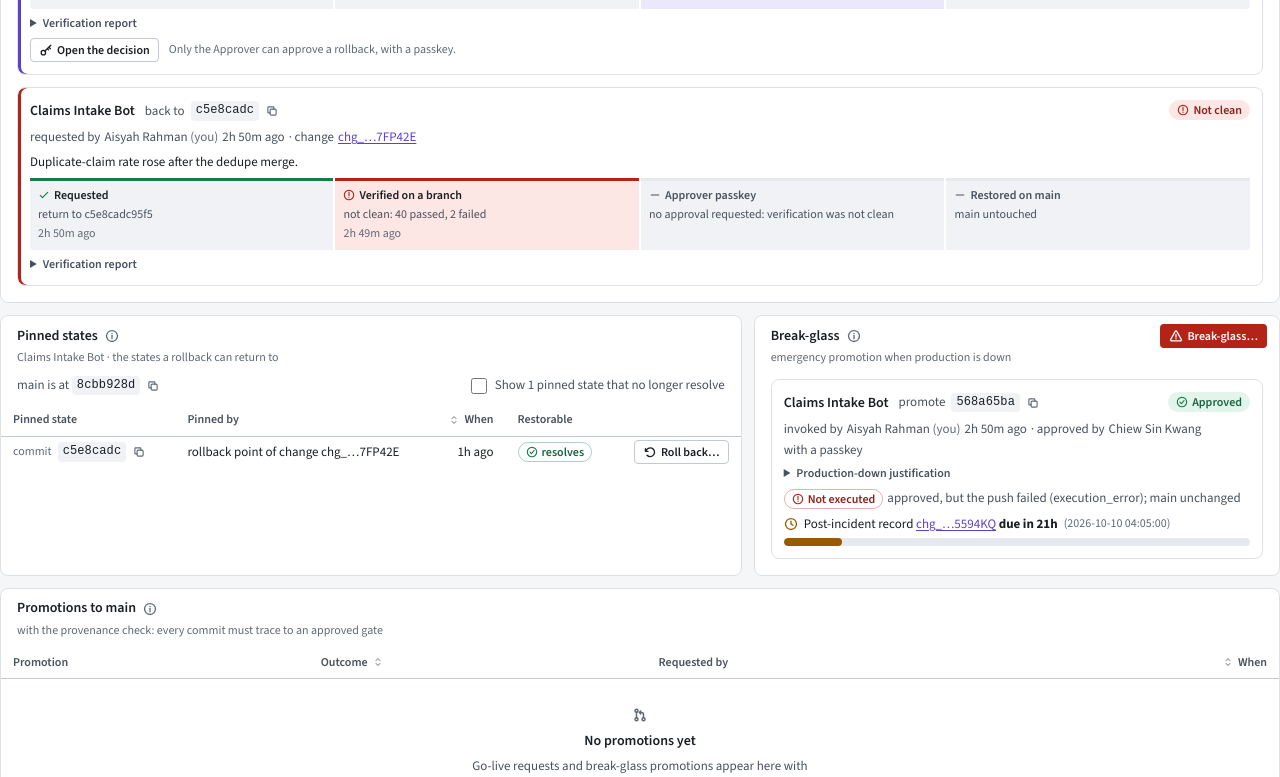
Test: Rollbacks › requests a rollback to a pinned state that still resolves, never to one that does not
Later steps or results of the test are not shown.
(page scrolled)
Expected: the number of buttons "Roll back…" is 1, [634,440,729,464]
Click the checkbox labelled "Show 1 pinned state that no longer resolve".
click(479, 386)  # box [471,378,487,394]
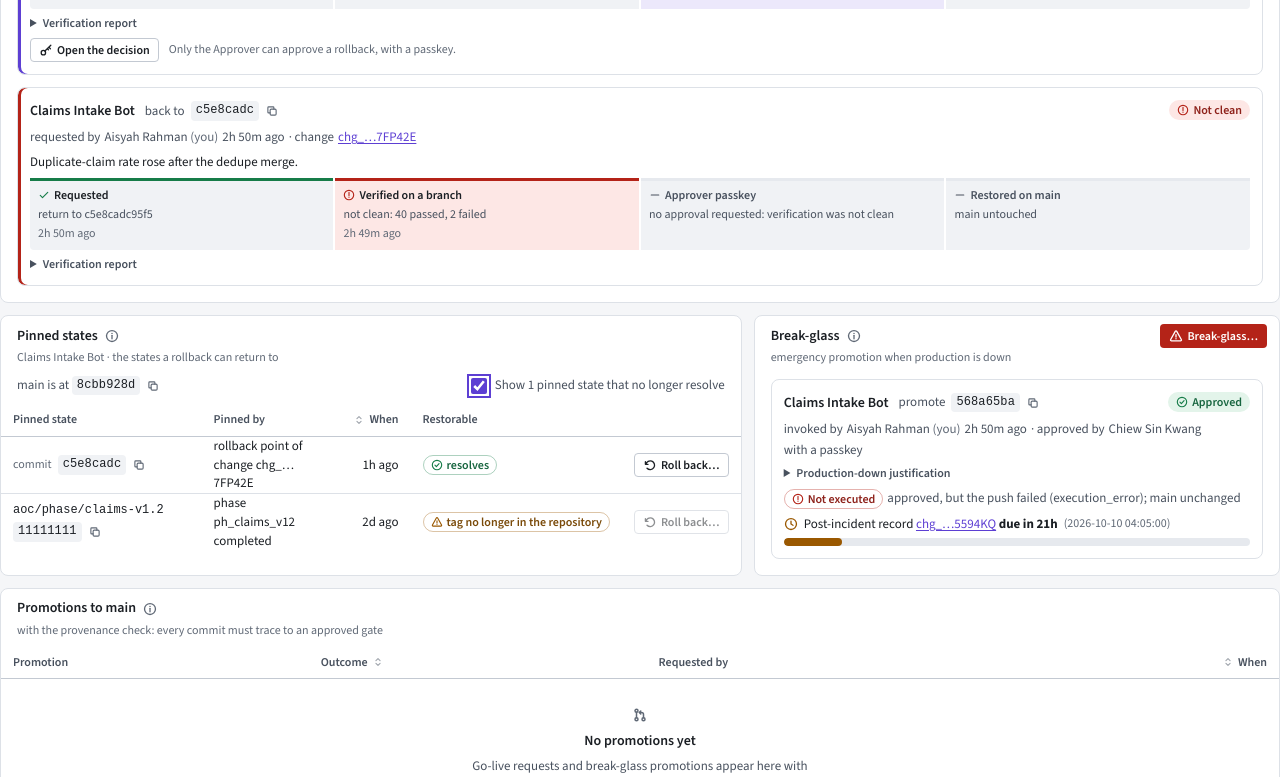
Now the number of buttons "Roll back…" is 2
Now the button "Roll back…" in the row of "aoc/phase/claims-v1.2" is disabled, box [634,510,729,534]
Click the button "Roll back…" next to "resolves".
click(681, 464)  # box [634,452,729,476]
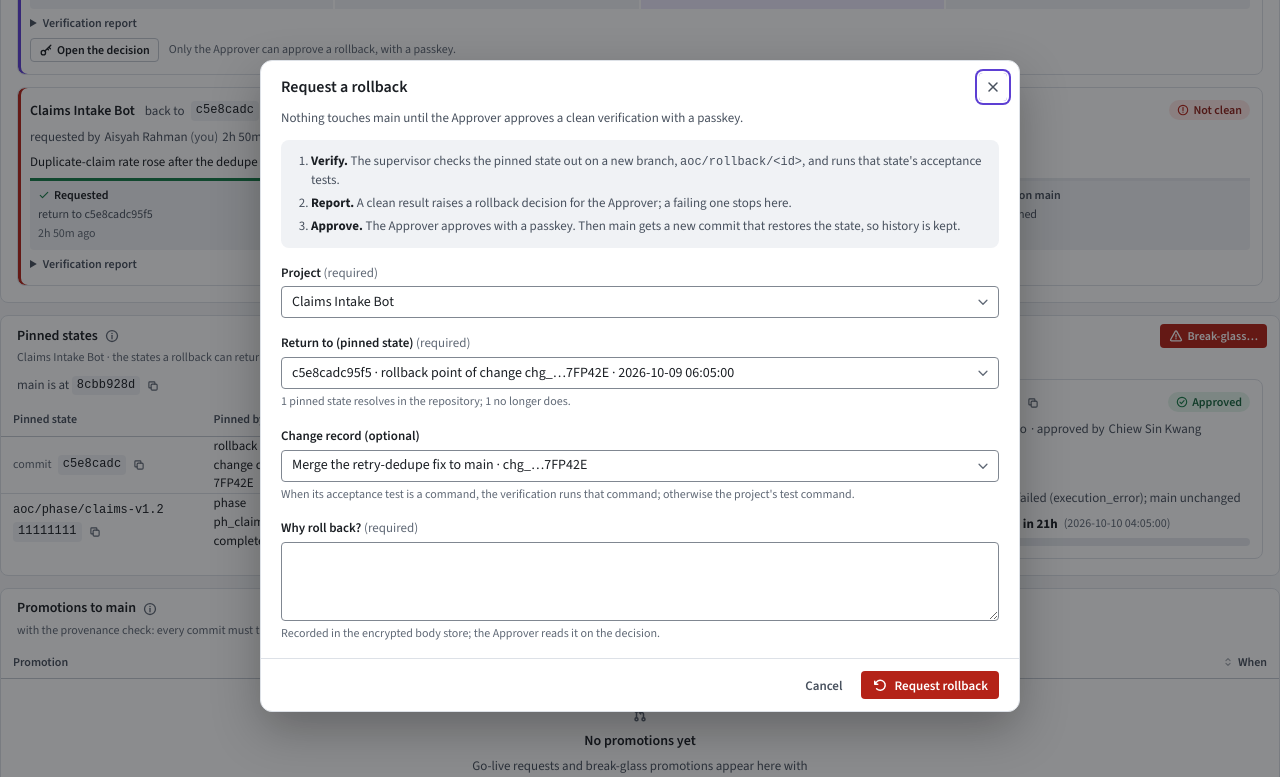
Now the dropdown labelled "Return to (pinned state) (required)" shows "c5e8cadc95f5 · rollback point of change chg_…7FP42E · 2026-10-09 06:05:00", box [281,357,999,389]
Click the button "Request rollback".
click(930, 685)  # box [862,671,999,699]
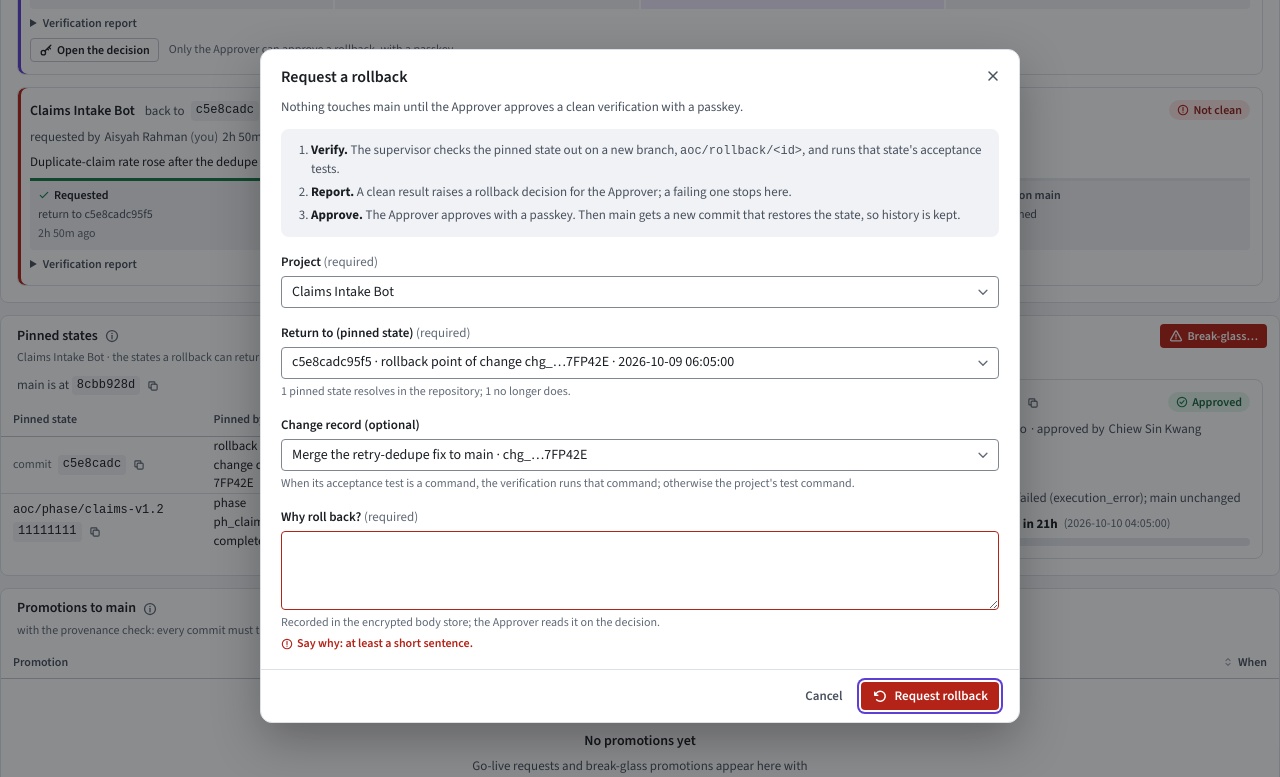
Now the text "Say why: at least a short sentence." is shown, box [281,635,473,651]
